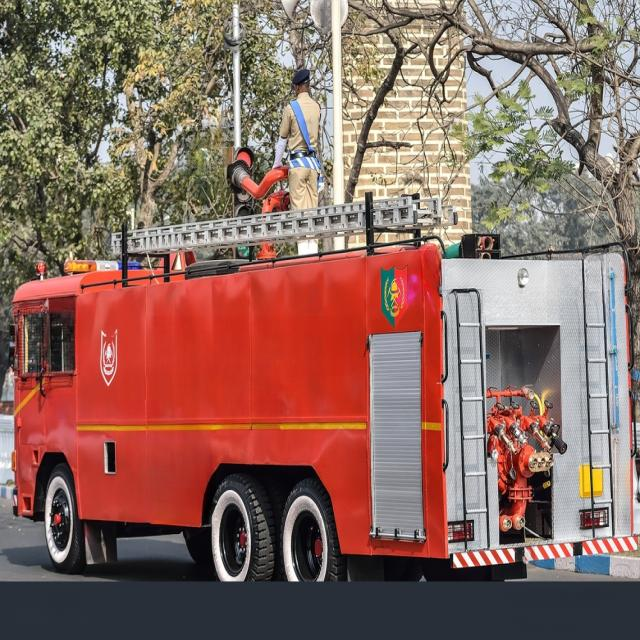emergency: (10, 148, 636, 580)
